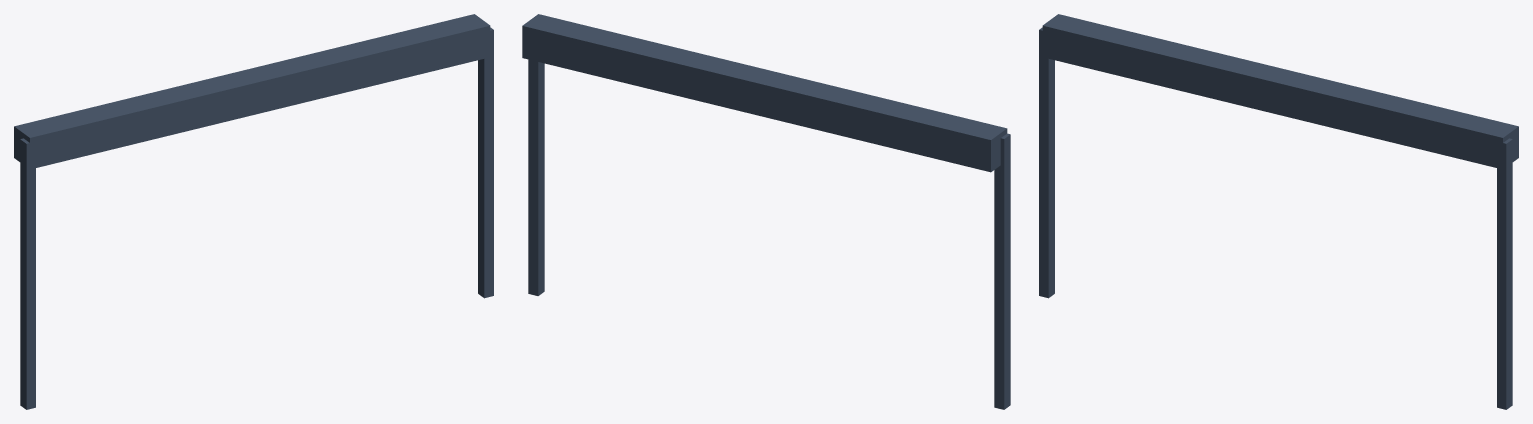
File: ms1_door.obj
3 views of the same model, side by side, from view 1: azimuth 30°, elevation 25°; view 2: azimuth 150°, elevation 25°; view 3: azimuth 330°, elevation 25° (orthographic).
Parts seen in each view (by area): view 1: ms1_door; view 2: ms1_door; view 3: ms1_door.
Part boxes in pixels (x1,y1,x2,y2): ms1_door: (14,14,493,409); ms1_door: (522,14,1010,409); ms1_door: (1039,14,1518,409).
Bounding box in the file's own units: 6.8 × 3.77 × 0.4.
